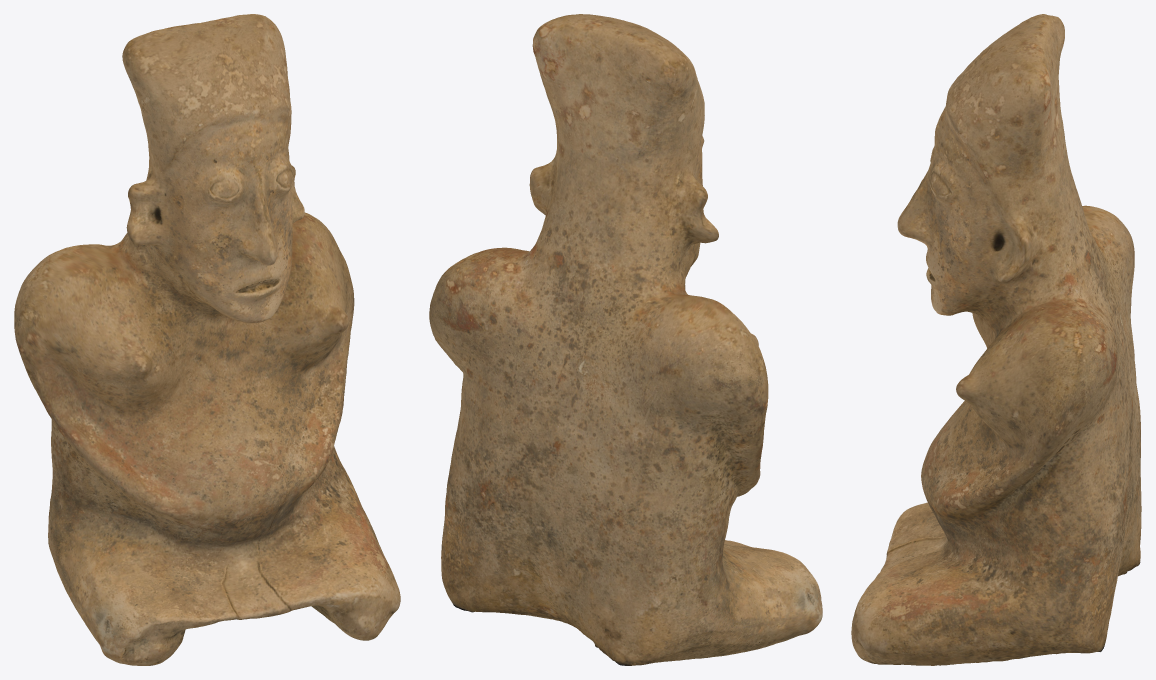
The model's file is preview.glb.
3 renders of one model, left to right at view 1: azimuth 30°, elevation 25°; view 2: azimuth 150°, elevation 25°; view 3: azimuth 270°, elevation 25°, orthographic. The views are drawn at different scales.
Visible parts, largest first — view 1: mat-0; view 2: mat-0; view 3: mat-0.
Boxes of the visible parts, x1,y1,x2,y2 form: mat-0: (14, 14, 400, 665); mat-0: (429, 14, 822, 665); mat-0: (851, 14, 1141, 665).
Size of the model in its own units: 0.3333 by 0.5719 by 0.2569.
Materials: 1 (1 with a texture image).
